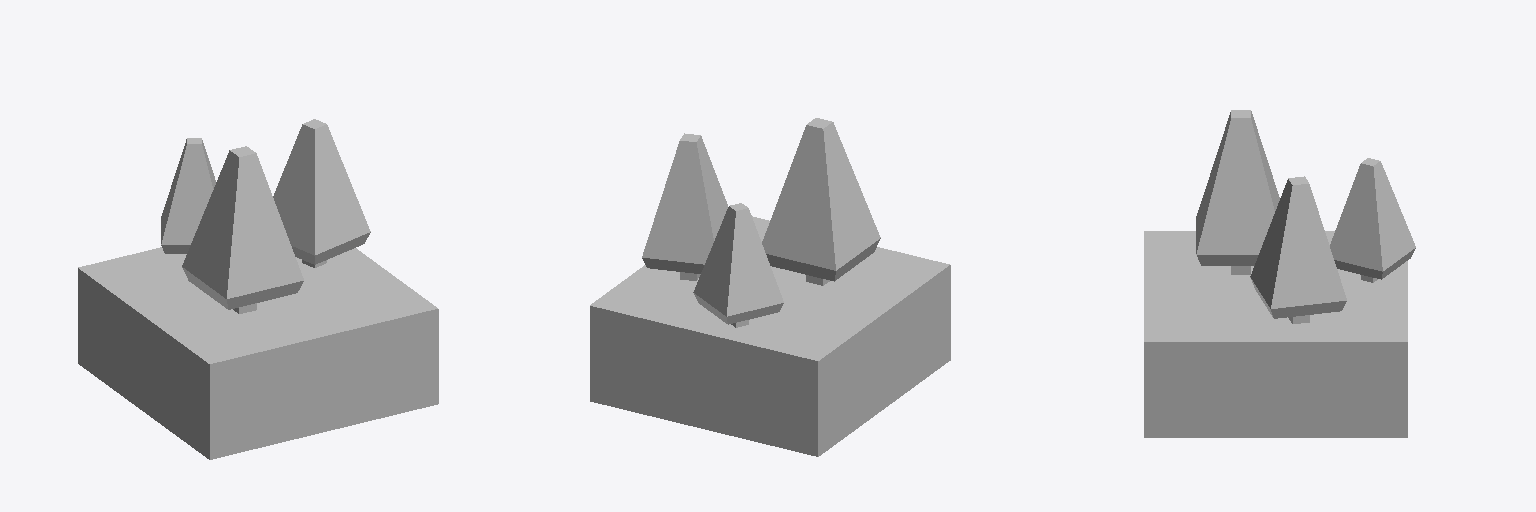
File: towerDefense_060.obj
3 renders of one model, left to right at view 1: azimuth 30°, elevation 25°; view 2: azimuth 150°, elevation 25°; view 3: azimuth 270°, elevation 25°, orthographic.
Visible parts, largest first — view 1: Mesh4 Group1 Model, Mesh2 Component_2_2 Group1 Model, Mesh1 Component_2_1 Group1 Model, Mesh3 Component_2_3 Group1 Model; view 2: Mesh4 Group1 Model, Mesh2 Component_2_2 Group1 Model, Mesh1 Component_2_1 Group1 Model, Mesh3 Component_2_3 Group1 Model; view 3: Mesh4 Group1 Model, Mesh2 Component_2_2 Group1 Model, Mesh1 Component_2_1 Group1 Model, Mesh3 Component_2_3 Group1 Model.
Part boxes in pixels (bbox=[...]): Mesh4 Group1 Model: bbox=[78, 247, 438, 459]; Mesh2 Component_2_2 Group1 Model: bbox=[182, 146, 303, 313]; Mesh1 Component_2_1 Group1 Model: bbox=[273, 119, 370, 267]; Mesh3 Component_2_3 Group1 Model: bbox=[161, 138, 215, 253]; Mesh4 Group1 Model: bbox=[590, 216, 950, 456]; Mesh2 Component_2_2 Group1 Model: bbox=[762, 118, 880, 285]; Mesh1 Component_2_1 Group1 Model: bbox=[642, 133, 727, 280]; Mesh3 Component_2_3 Group1 Model: bbox=[693, 203, 783, 327]; Mesh4 Group1 Model: bbox=[1144, 231, 1407, 437]; Mesh2 Component_2_2 Group1 Model: bbox=[1196, 110, 1279, 274]; Mesh1 Component_2_1 Group1 Model: bbox=[1250, 176, 1346, 323]; Mesh3 Component_2_3 Group1 Model: bbox=[1330, 158, 1415, 282].
Size of the model in its own units: 1 by 1.06 by 1.03.